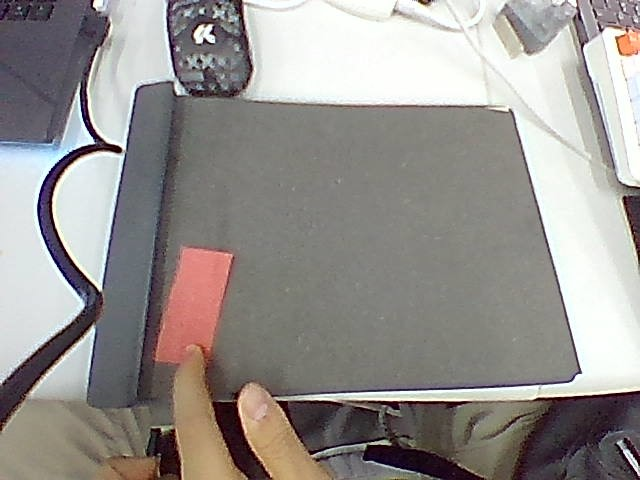card: (155, 247, 232, 362)
